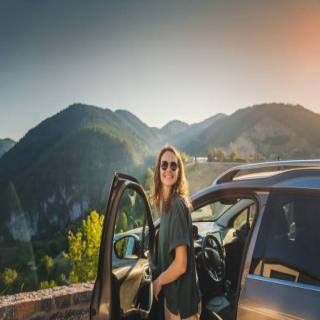Normal_vehicle: (209, 153, 312, 320), (103, 186, 146, 306)
